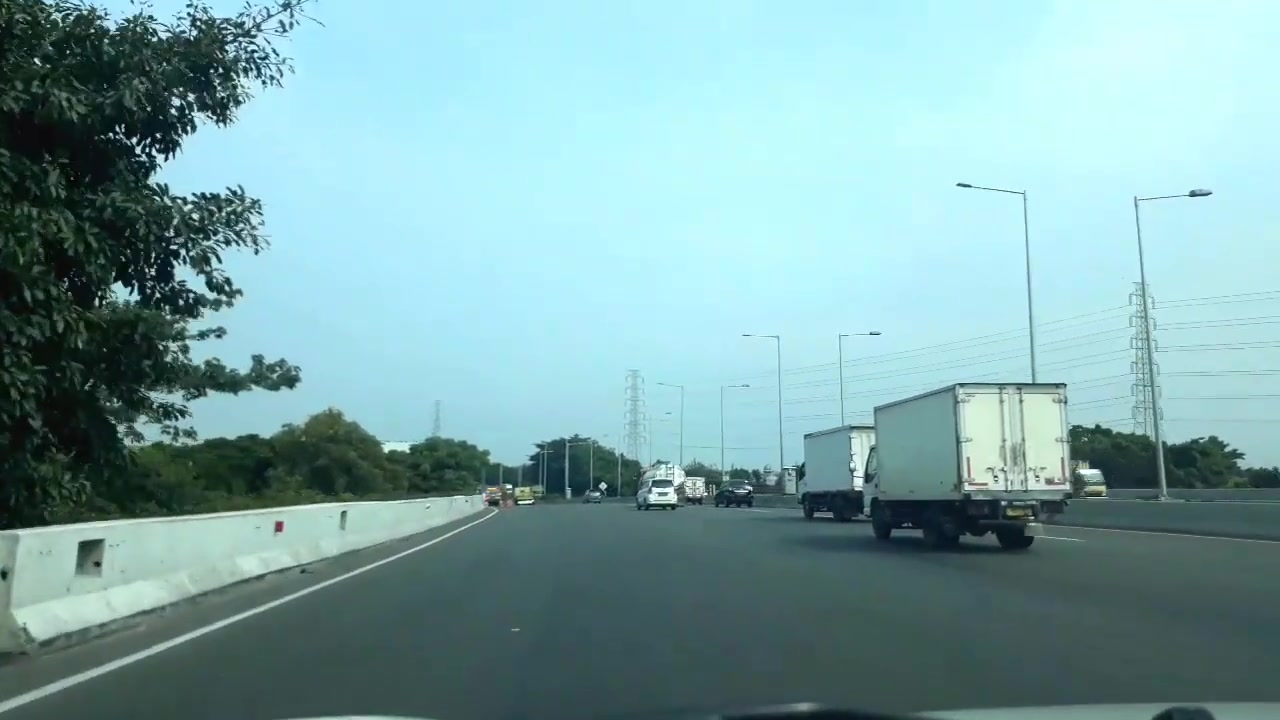plate_positive: (1006, 507, 1034, 516), (658, 493, 668, 496)
